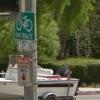Boat: (4, 62, 82, 100)
